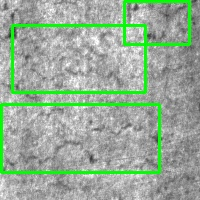crazing: (1, 104, 159, 172), (12, 25, 145, 92), (124, 1, 189, 44)
